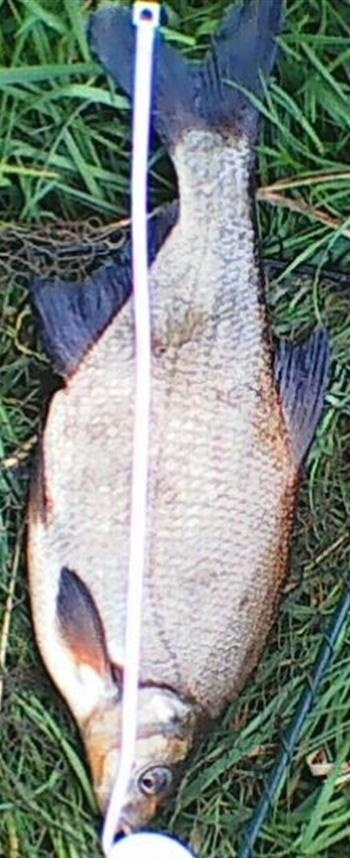Abramis brama: (20, 1, 330, 838)
